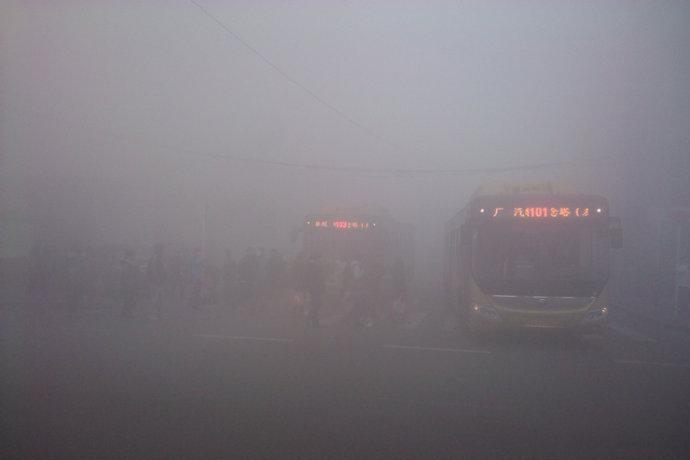bus: (437, 179, 626, 336), (287, 202, 420, 295)
